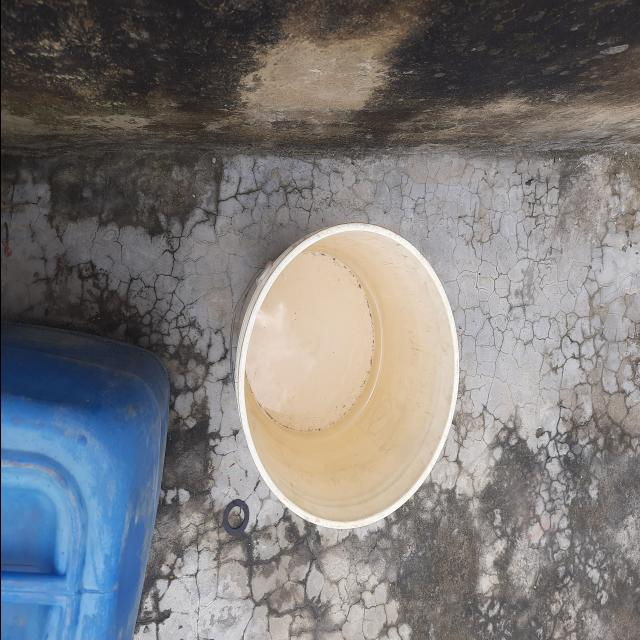Breeding Place: (207, 200, 499, 571), (0, 317, 171, 640)
